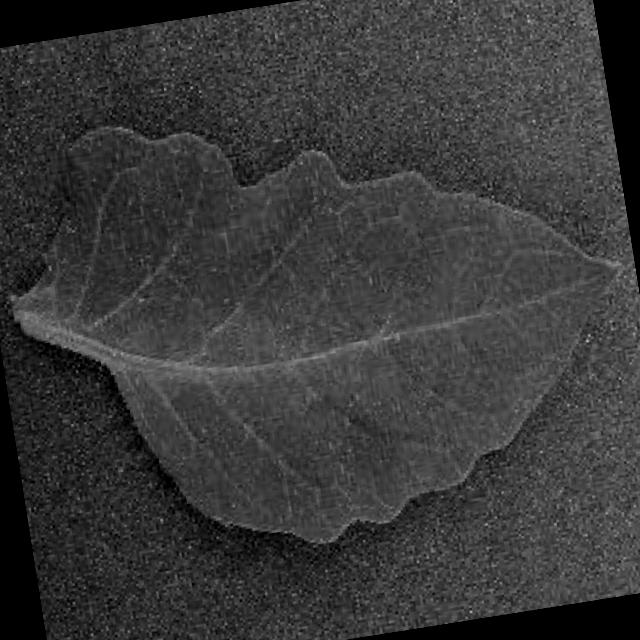healthy: (7, 118, 616, 549)
